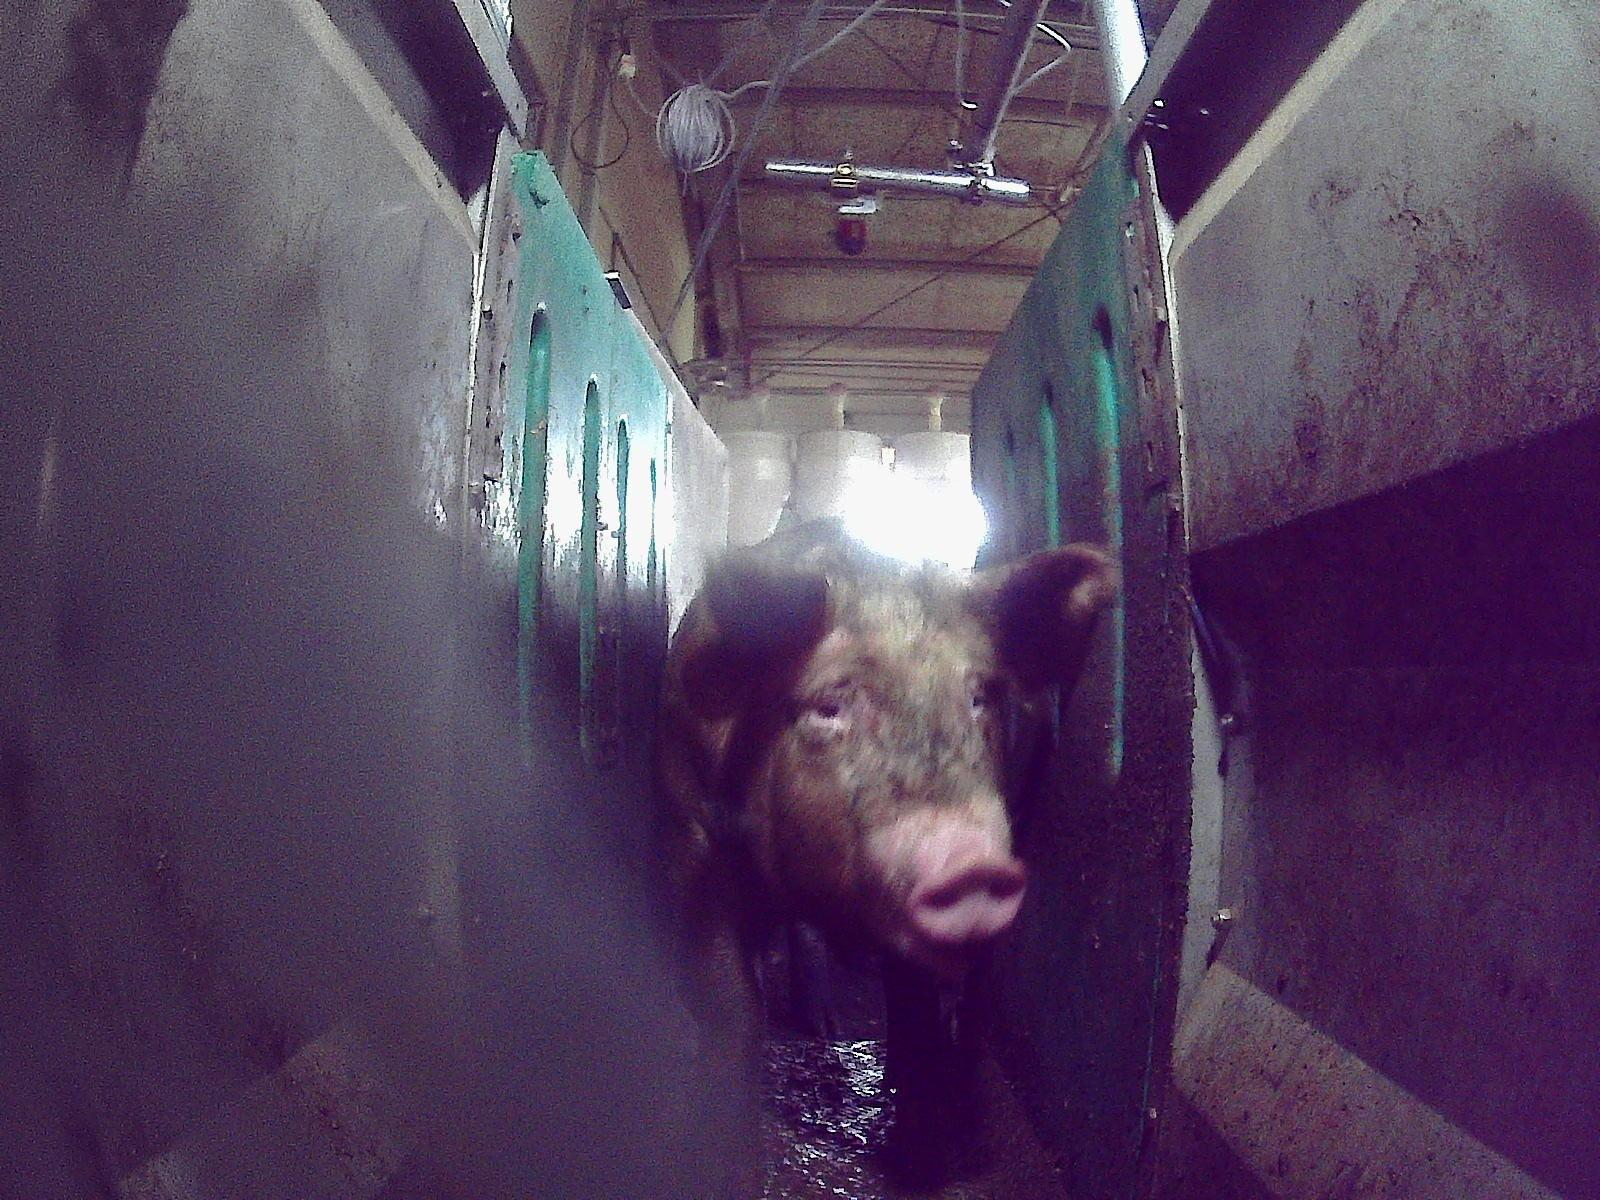Face: (760, 583, 1022, 964)
